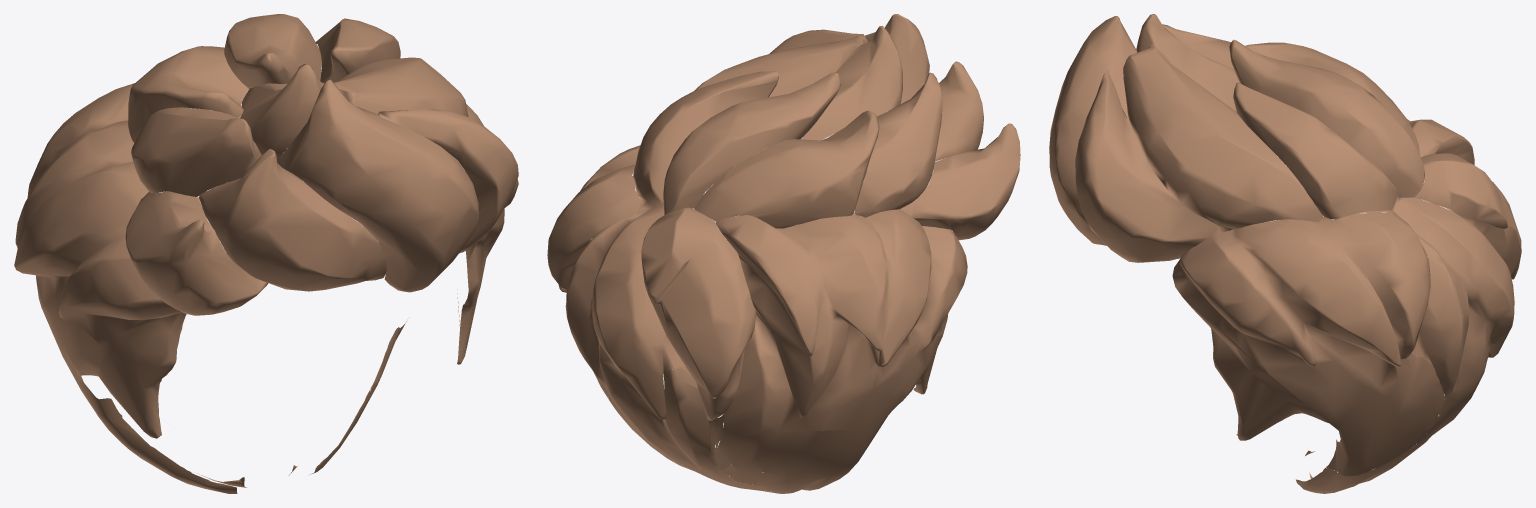
The model's file is hair_04.glb.
3 views of the same model, side by side, from view 1: azimuth 30°, elevation 25°; view 2: azimuth 150°, elevation 25°; view 3: azimuth 270°, elevation 25° (orthographic). The views are drawn at different scales.
Visible parts, largest first — view 1: hair; view 2: hair; view 3: hair.
Boxes of the visible parts, x1,y1,x2,y2 form: hair: [14, 14, 518, 493]; hair: [547, 14, 1020, 493]; hair: [1049, 14, 1521, 493].
Bounding box in the file's own units: 0.4814 × 0.5384 × 0.5242.
